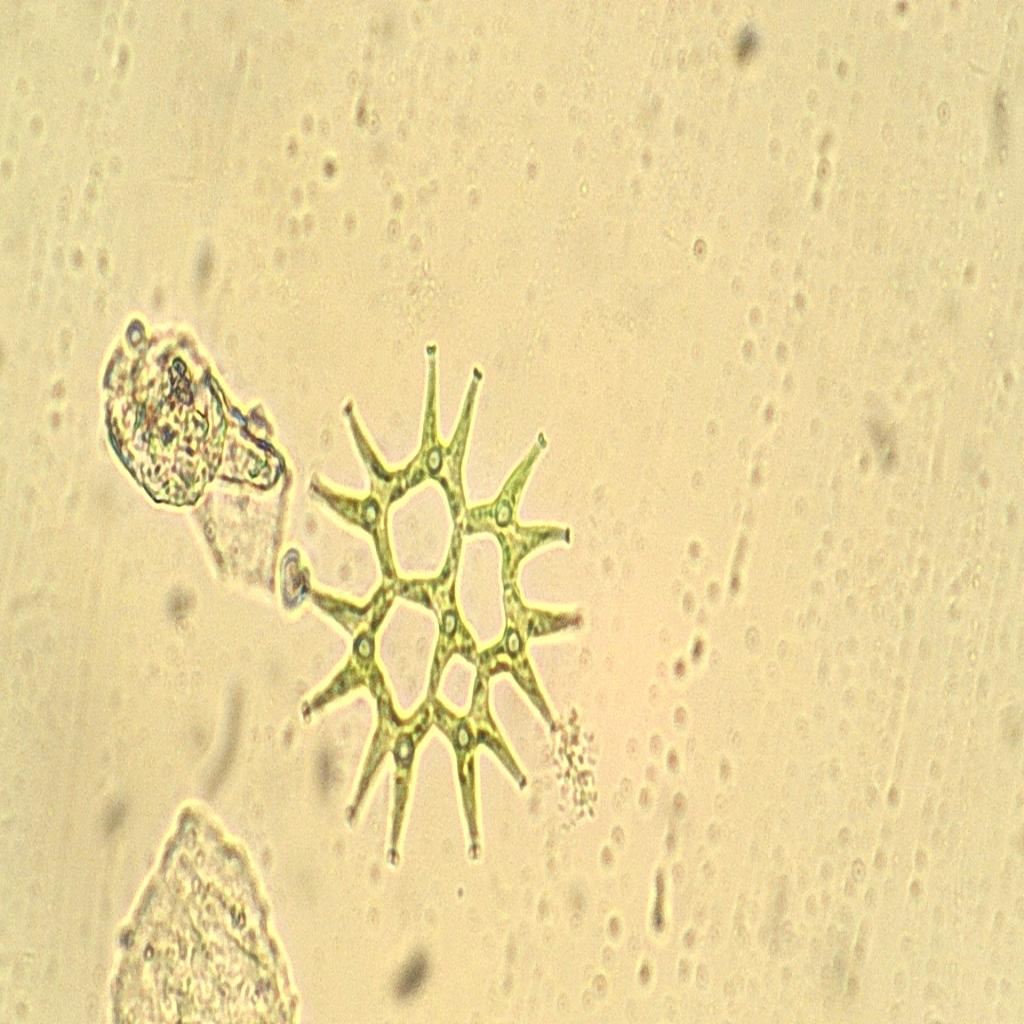Pediastrum_CTH: (272, 337, 611, 885)
